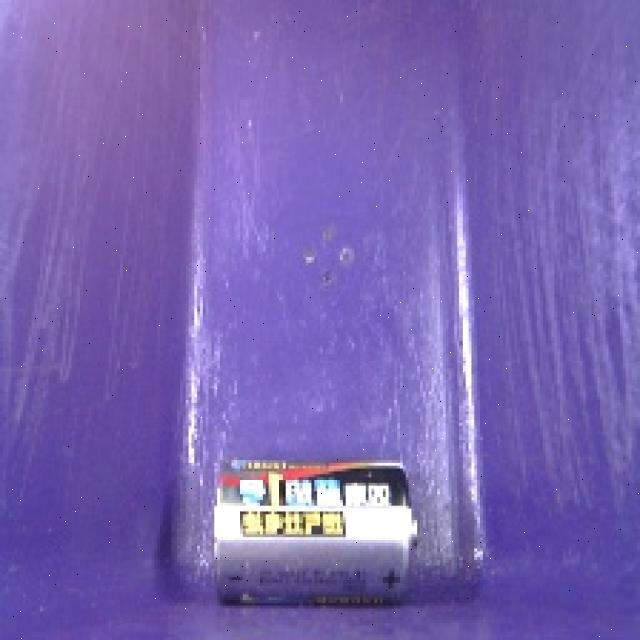battery: (202, 449, 434, 622)
